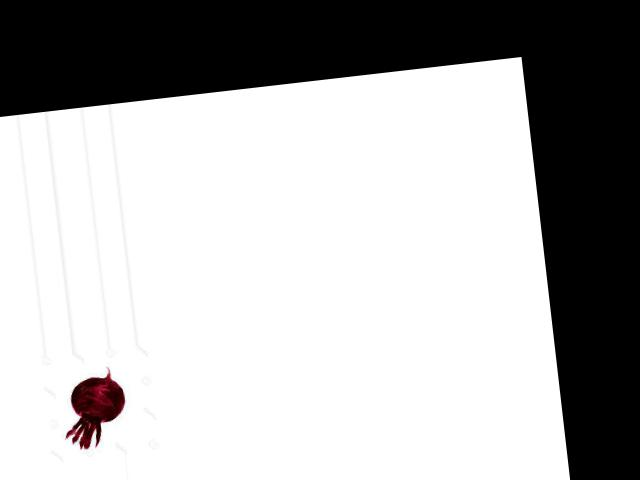beet: (58, 364, 130, 450)
